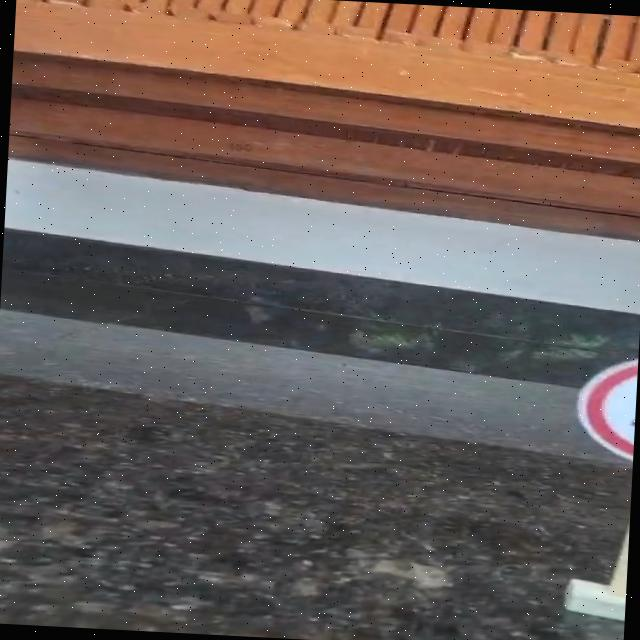Reject: (557, 344, 639, 470)
